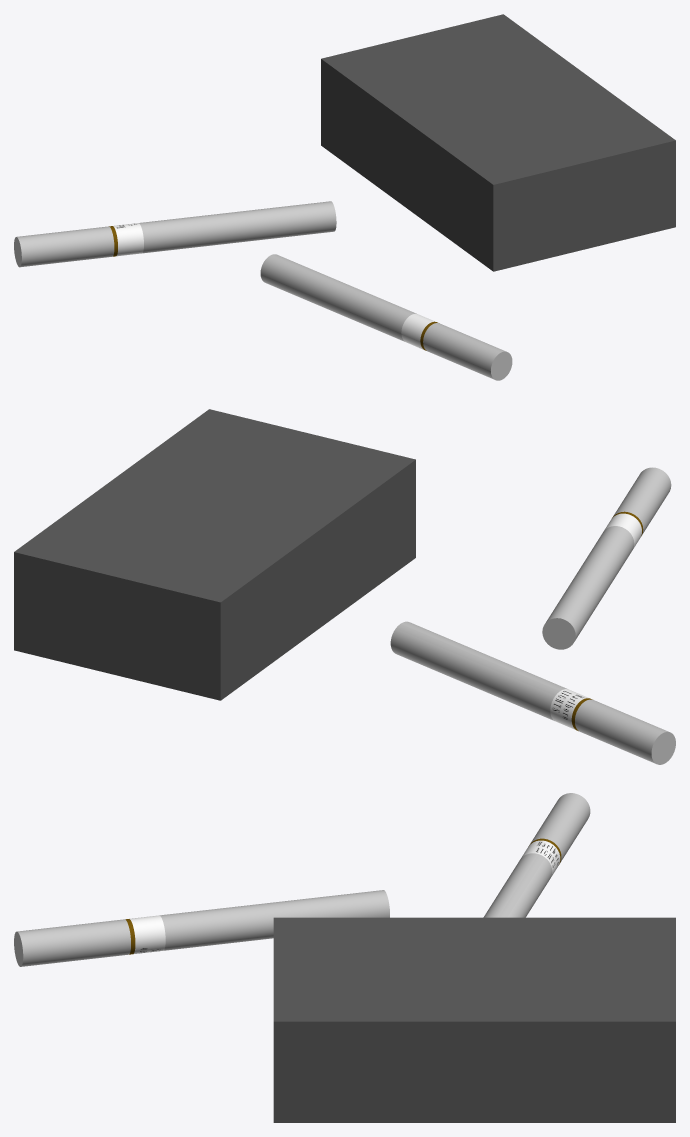
File: uploads_files_2814699_Marlboro_Box.FBX
3 renders of one model, top to bottom at view 1: azimuth 30°, elevation 25°; view 2: azimuth 150°, elevation 25°; view 3: azimuth 270°, elevation 25°, orthographic. The views are drawn at different scales.
Parts seen in each view (by area): view 1: M-L-pack, M_L19, M_L21; view 2: M-L-pack, M_L19, M_L21; view 3: M-L-pack, M_L21, M_L19.
Part boxes in pixels (bbox=[...]): M-L-pack: bbox=[321, 14, 675, 271]; M_L19: bbox=[14, 201, 336, 267]; M_L21: bbox=[260, 254, 512, 380]; M-L-pack: bbox=[14, 409, 415, 700]; M_L19: bbox=[390, 621, 675, 764]; M_L21: bbox=[542, 467, 671, 649]; M-L-pack: bbox=[273, 917, 675, 1122]; M_L21: bbox=[14, 890, 389, 966]; M_L19: bbox=[483, 793, 590, 917].
Size of the model in its own units: 16.06 by 2.6 by 14.81.
